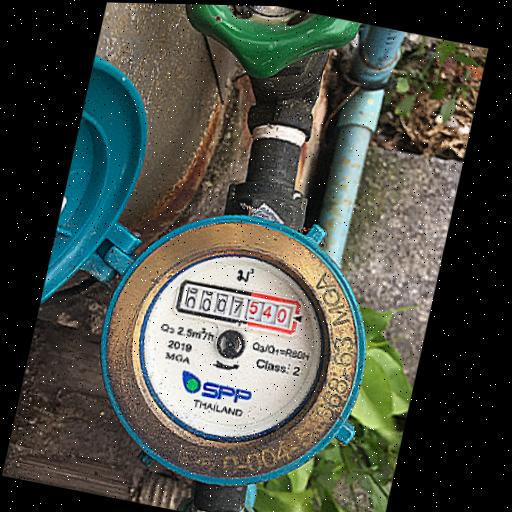0: (274, 305, 290, 327), (183, 287, 198, 309), (212, 293, 227, 315), (199, 291, 213, 312)
4: (259, 303, 274, 324)
5: (244, 299, 259, 322)
7: (229, 296, 243, 318)
border_water_meter_number: (173, 278, 302, 335)
